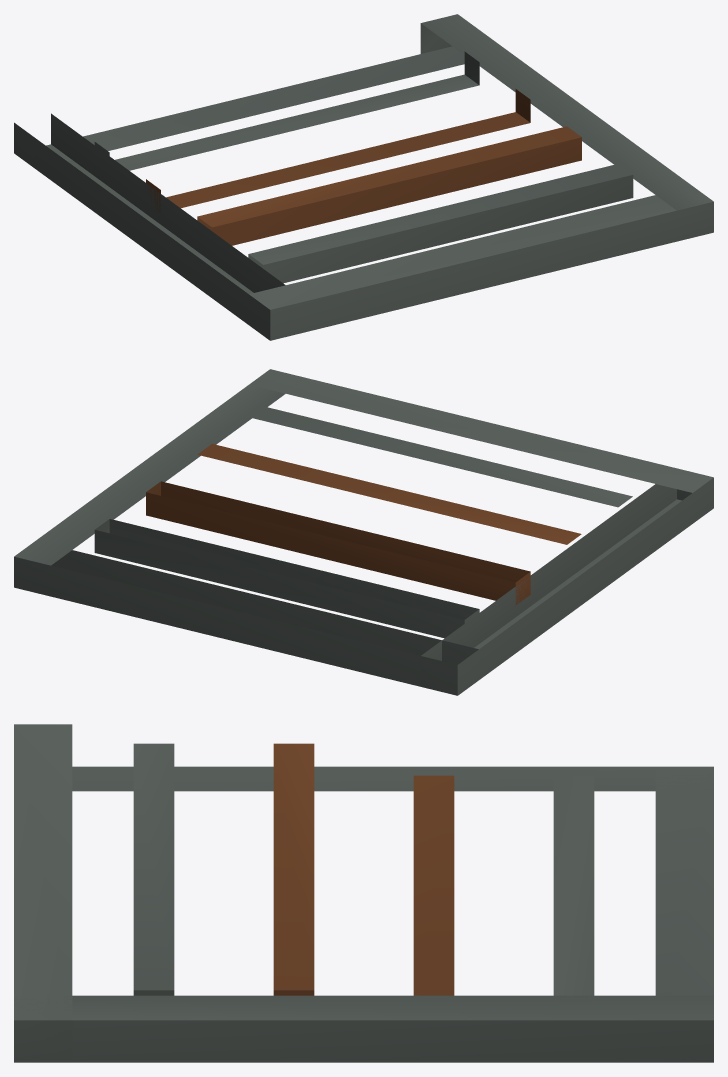
The model's file is cold_store_drain_grate.glb.
3 renders of one model, top to bottom at view 1: azimuth 30°, elevation 25°; view 2: azimuth 150°, elevation 25°; view 3: azimuth 270°, elevation 25°, orthographic. The views are drawn at different scales.
Parts seen in each view (by area): view 1: ColdStoreDrainGrate_Mesh; view 2: ColdStoreDrainGrate_Mesh; view 3: ColdStoreDrainGrate_Mesh.
Part boxes in pixels (x1,y1,x2,y2): ColdStoreDrainGrate_Mesh: (14,14,713,340); ColdStoreDrainGrate_Mesh: (14,369,713,695); ColdStoreDrainGrate_Mesh: (14,724,713,1062).
Size of the model in its own units: 0.6 by 0.045 by 0.6.
